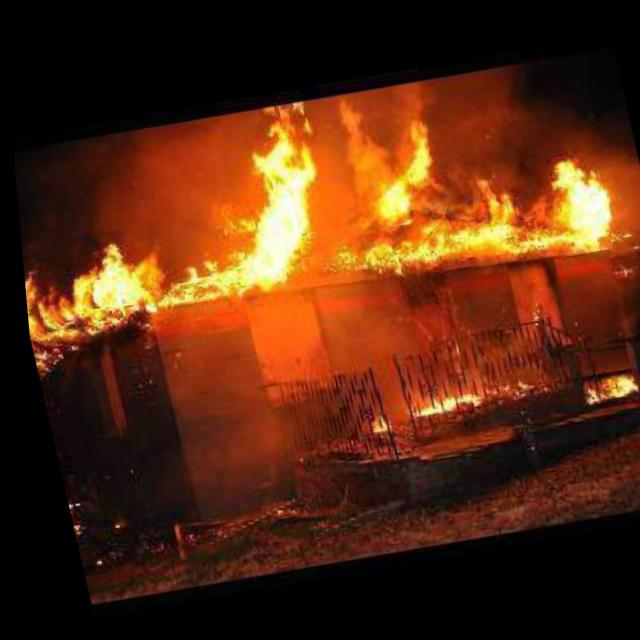Fire: (5, 51, 640, 366), (384, 362, 528, 423), (552, 365, 639, 415), (334, 405, 384, 442)
